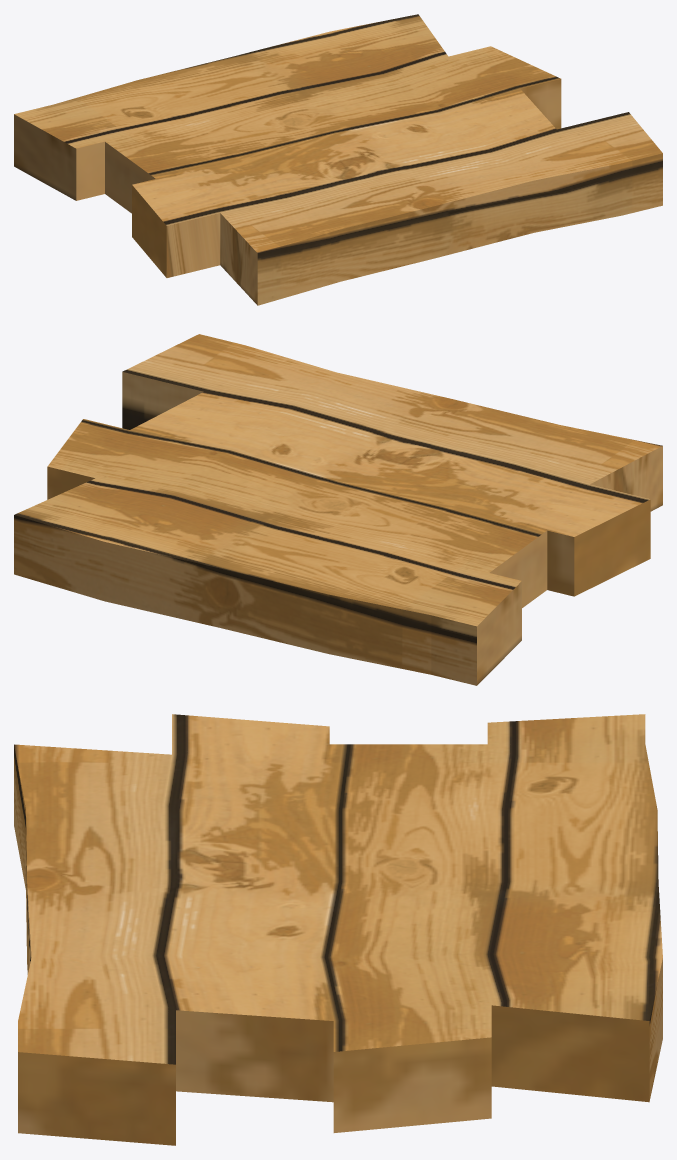
Rendered from woodPlatformSmall.fbx.
3 views of the same model, one above another, from view 1: azimuth 30°, elevation 25°; view 2: azimuth 150°, elevation 25°; view 3: azimuth 270°, elevation 25° (orthographic). The views are drawn at different scales.
Visible parts, largest first — view 1: pCube30; view 2: pCube30; view 3: pCube30.
Boxes of the visible parts, x1,y1,x2,y2 form: pCube30: (14,14,662,305); pCube30: (14,334,662,685); pCube30: (14,714,662,1145).
Bounding box in the file's own units: 1.86 × 0.2006 × 1.45.
